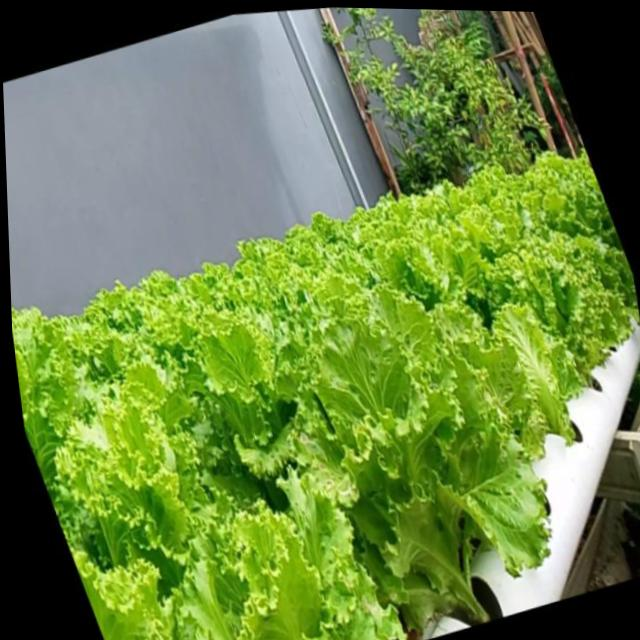Mature: (305, 291, 546, 635), (496, 230, 628, 402)
